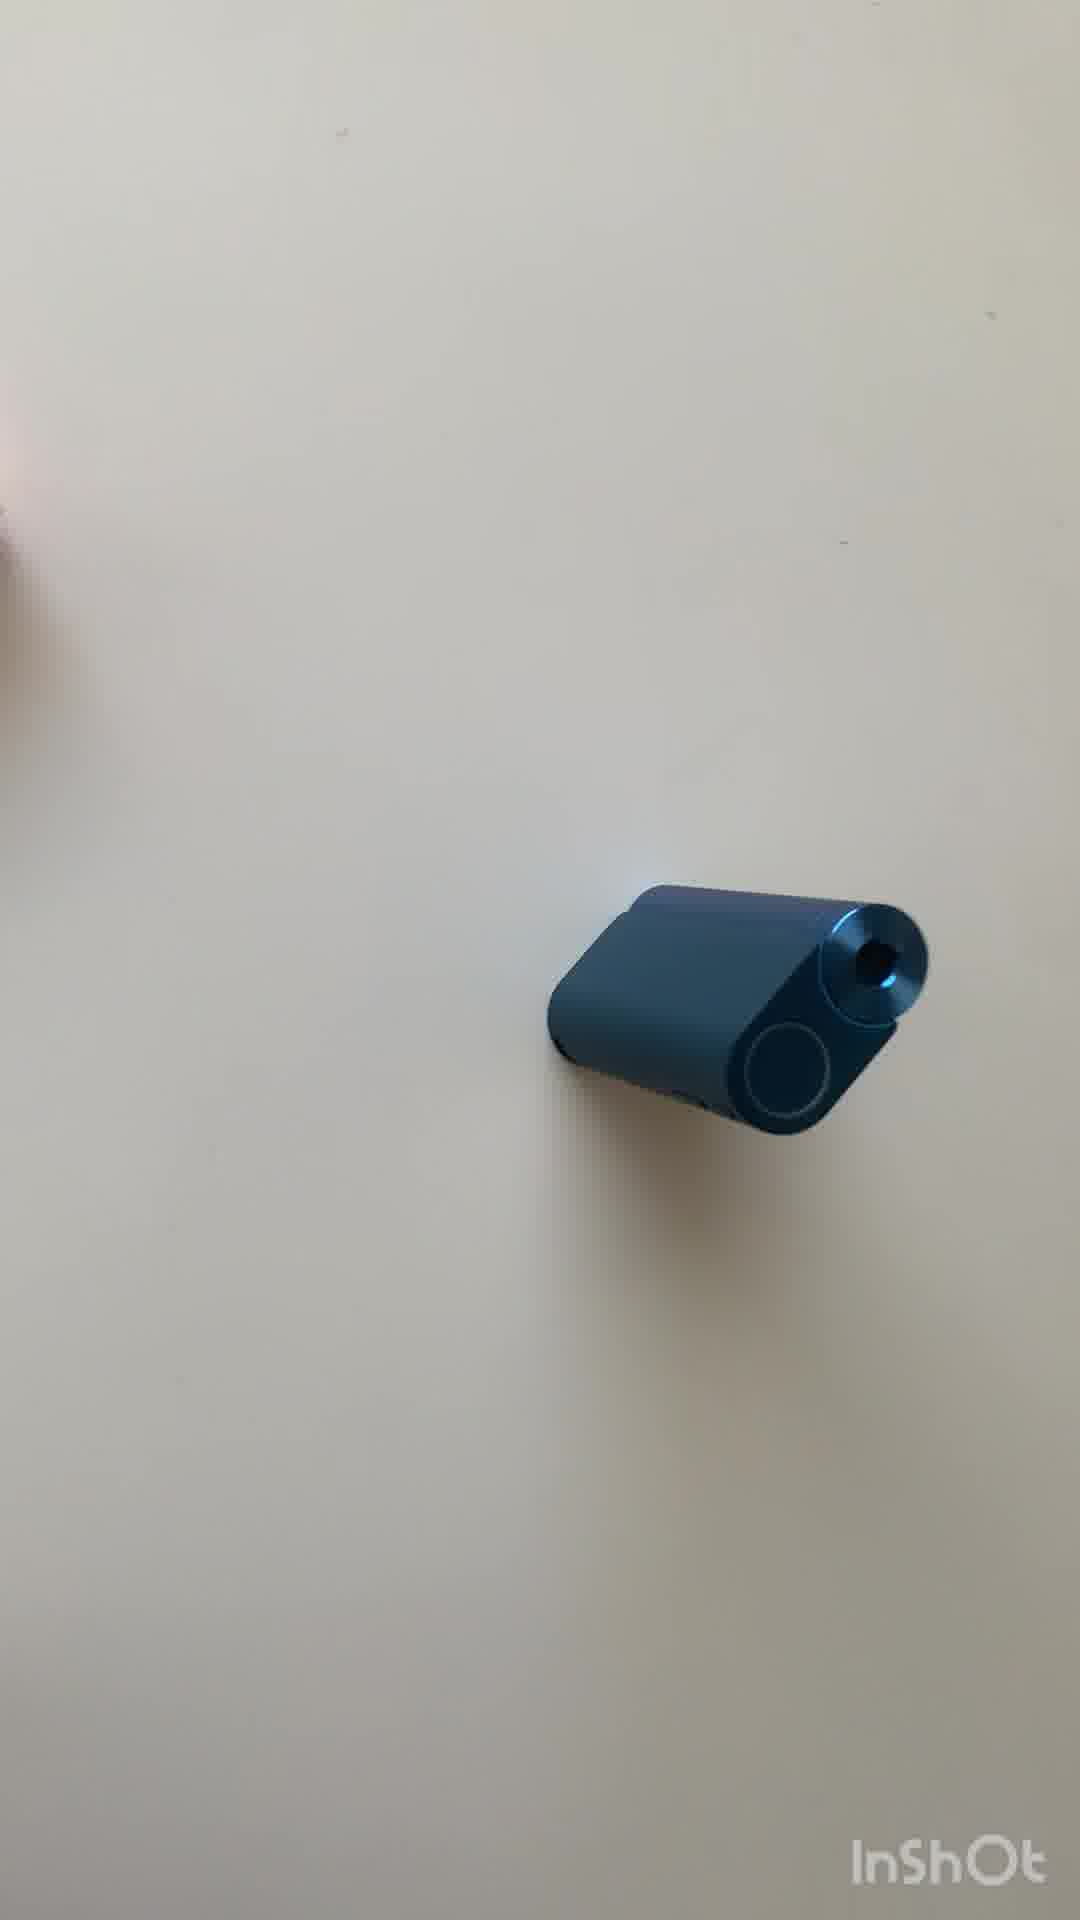glo: (533, 877, 934, 1149)
